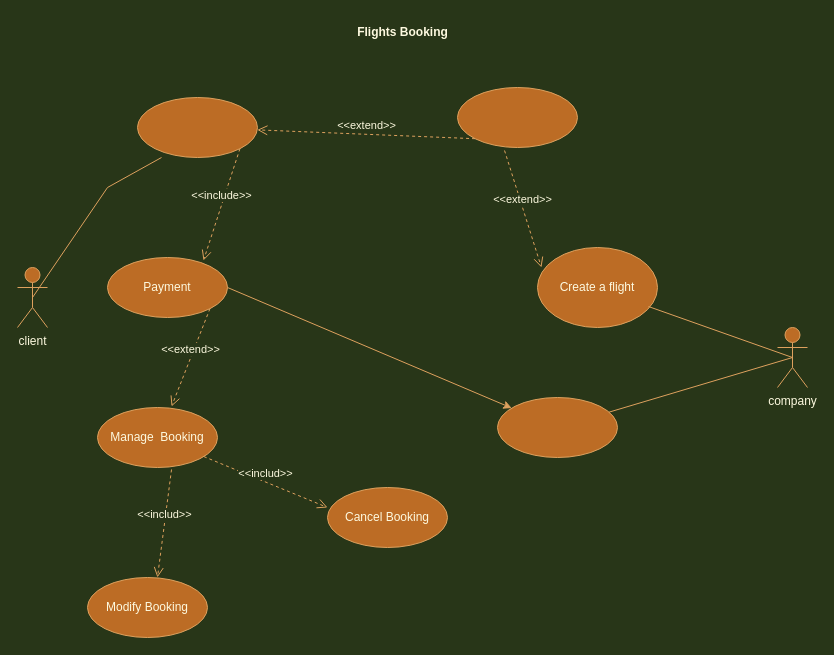
This 834x655 diagram has some shape labels left out. The shapes that lost their labels are listed below. From the top down, each one's centre as x and y in pixels, then its label:
the point at 197,127: Book flight
the point at 517,117: Open reservation
the point at 557,427: Flight confirmation
